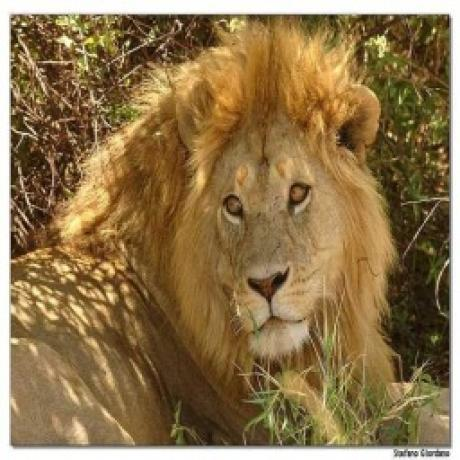Lion: (11, 16, 396, 443)
